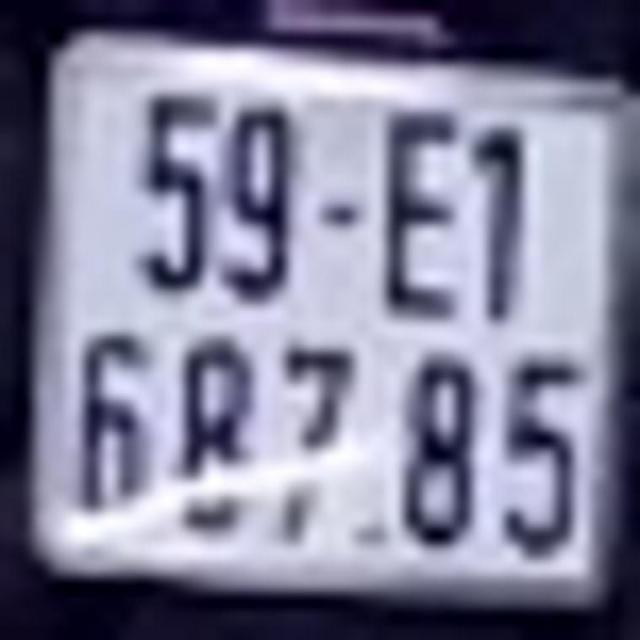1: (468, 122, 527, 325)
5: (504, 355, 582, 560), (141, 96, 215, 292)
6: (80, 332, 150, 530)
7: (280, 346, 352, 540)
8: (401, 352, 476, 547), (181, 336, 253, 532)
9: (224, 106, 293, 300)
E: (384, 108, 461, 319)
